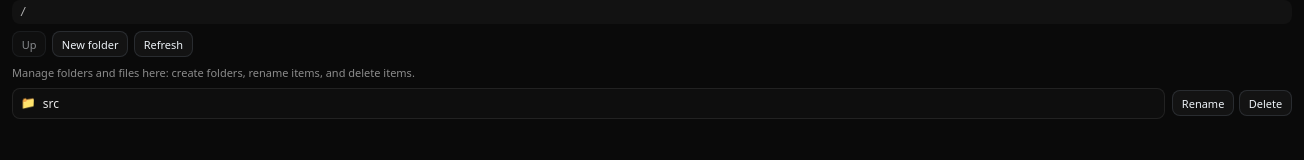
WorkspaceFilePanel - Folder Operations Unit Tests › Folder selection navigates into folder (Requirement 4.1, 4.2, 4.3) › should navigate into folder when folder entry is clicked
// Click on folder
Step 1. Click the text "src" → click(51, 103), box [43, 95, 59, 112]
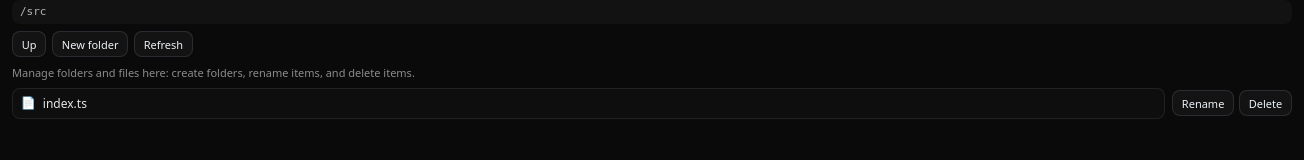
Expected: the text "/src" is shown, [12, 0, 1292, 24]
Expected: the text "index.ts" is shown, [43, 95, 87, 112]
